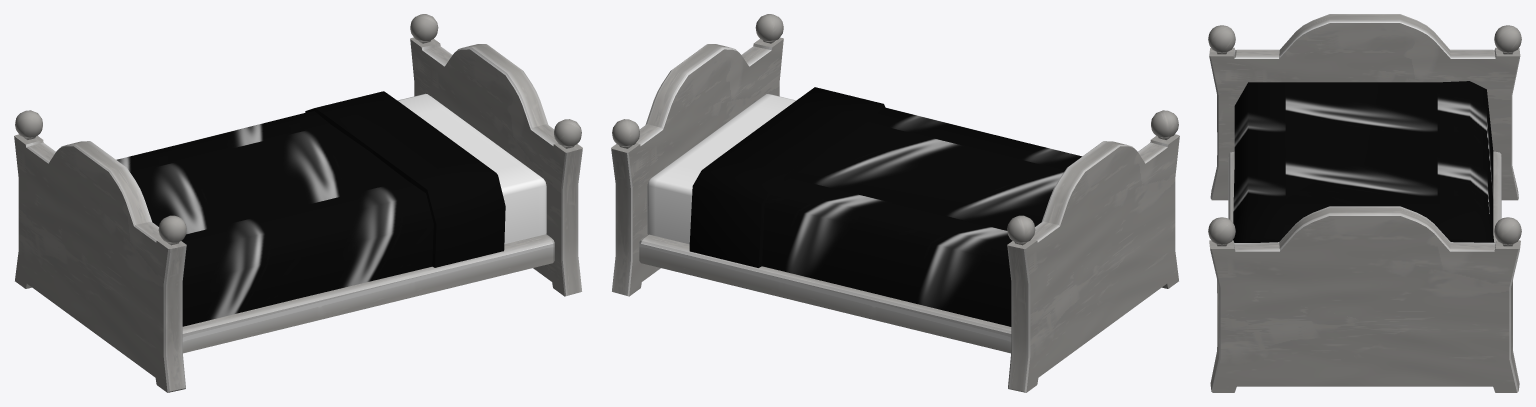
The model's file is BedInteraction.fbx.
The picture shows the model from 3 angles, left to right: view 1: azimuth 30°, elevation 25°; view 2: azimuth 150°, elevation 25°; view 3: azimuth 270°, elevation 25°; orthographic projection.
Visible parts, largest first — view 1: bed_trimmed; view 2: bed_trimmed; view 3: bed_trimmed.
Part boxes in pixels (left/top/right/bottom): bed_trimmed: left=14, top=14, right=582, bottom=392; bed_trimmed: left=611, top=14, right=1179, bottom=392; bed_trimmed: left=1208, top=14, right=1521, bottom=392.
Size of the model in its own units: 200 by 81.74 by 130.
